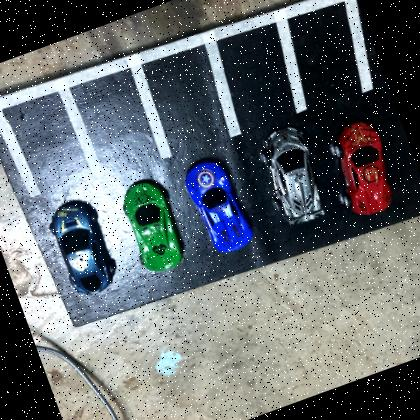Car: (252, 121, 334, 231), (319, 116, 404, 222), (42, 196, 120, 302), (180, 154, 258, 260), (115, 174, 190, 278)
